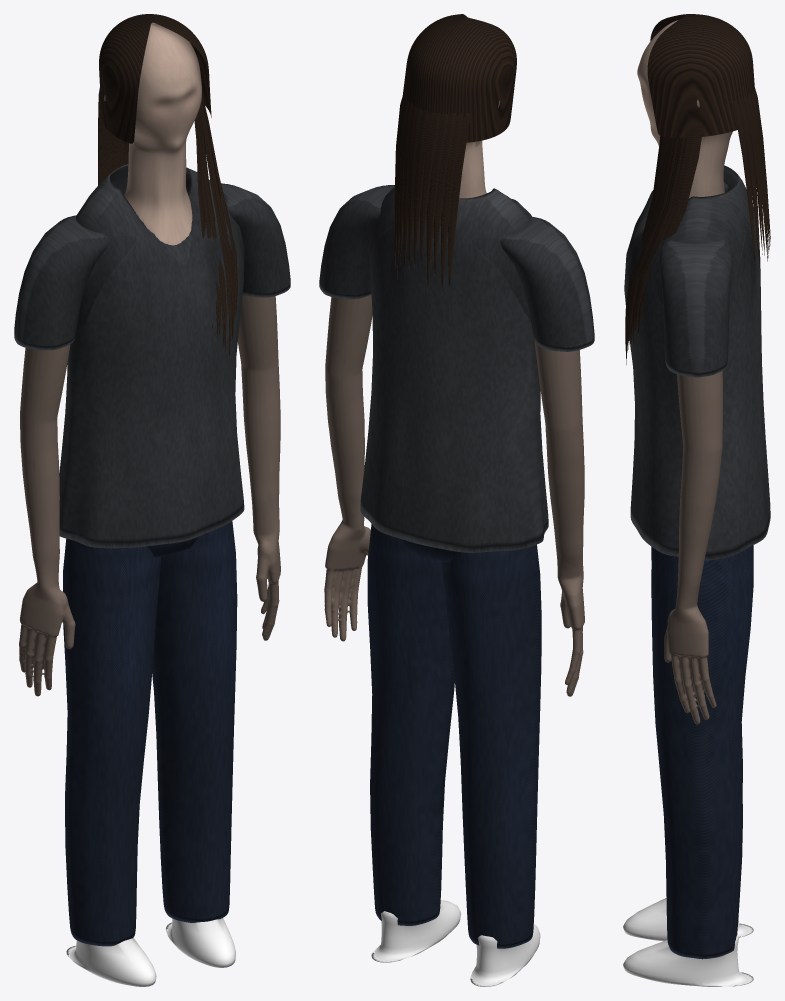
The model's file is Flawed_01_SinRostro.fbx.
The picture shows the model from 3 angles, left to right: view 1: azimuth 30°, elevation 25°; view 2: azimuth 150°, elevation 25°; view 3: azimuth 270°, elevation 25°; orthographic projection.
Parts seen in each view (by area): view 1: FL_Camisa, FL_Pantalon, FL_Brazos, FL_Cabeza, FL_Cabello, FL_Zapatos; view 2: FL_Camisa, FL_Pantalon, FL_Brazos, FL_Cabello, FL_Zapatos, FL_Cabeza; view 3: FL_Camisa, FL_Pantalon, FL_Cabello, FL_Brazos, FL_Zapatos, FL_Cabeza.
Boxes of the visible parts, bbox=[...] form: FL_Camisa: bbox=[14, 164, 290, 548]; FL_Pantalon: bbox=[63, 521, 237, 946]; FL_Brazos: bbox=[19, 295, 280, 696]; FL_Cabeza: bbox=[104, 22, 201, 245]; FL_Cabello: bbox=[98, 14, 237, 356]; FL_Zapatos: bbox=[66, 918, 235, 986]; FL_Camisa: bbox=[319, 185, 594, 552]; FL_Pantalon: bbox=[367, 524, 541, 948]; FL_Brazos: bbox=[324, 295, 584, 696]; FL_Cabello: bbox=[394, 14, 516, 293]; FL_Zapatos: bbox=[371, 900, 540, 986]; FL_Cabeza: bbox=[459, 101, 499, 198]; FL_Camisa: bbox=[624, 165, 770, 560]; FL_Pantalon: bbox=[651, 545, 753, 959]; FL_Cabello: bbox=[625, 14, 770, 364]; FL_Brazos: bbox=[664, 371, 722, 724]; FL_Zapatos: bbox=[623, 898, 753, 986]; FL_Cabeza: bbox=[637, 20, 732, 198].
Bounding box in the file's own units: 0.5185 × 1.72 × 0.2466.
5 materials, 4 textured.
